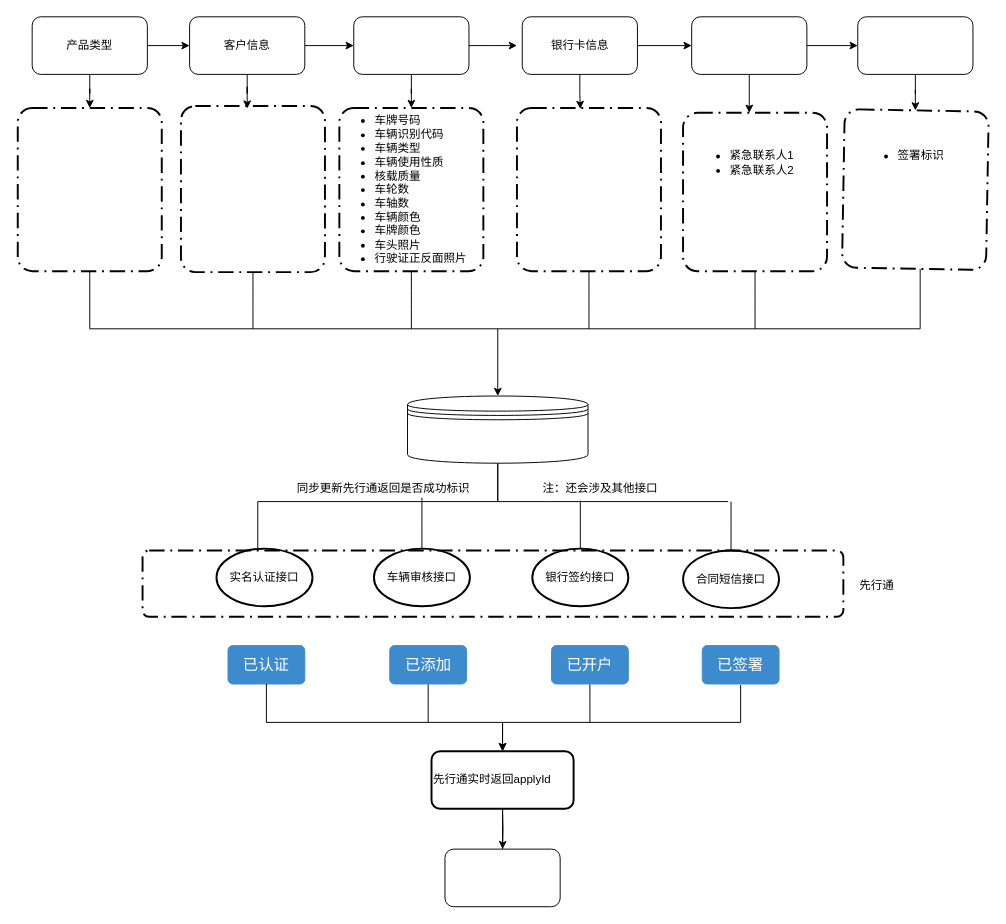
Image size: 1006x924. Some labels were removed from this diagram. Here are the shapes that lost their labels. From the top down, the centre of each, then its label:
At point 411,45: "车辆信息".
At point 749,45: "联系人信息".
At point 915,45: "签署合同".
At point 89,189: "产品类型 齐鲁员工编码 银行员工编码".
At point 252,189: "姓名 省份证号 性别 婚姻状况 出生年月 发证日期 证件有效期 正反照片".
At point 588,189: "持卡人(客户信息一致) 身份证号（同上） 职业 开户行 借记卡卡号 银行预留手机号 证件是否长期有效 发证日期 有效日期".
At point 497,429: "保存便携机数据库后调用接口".
At point 502,877: "写卡发行".
